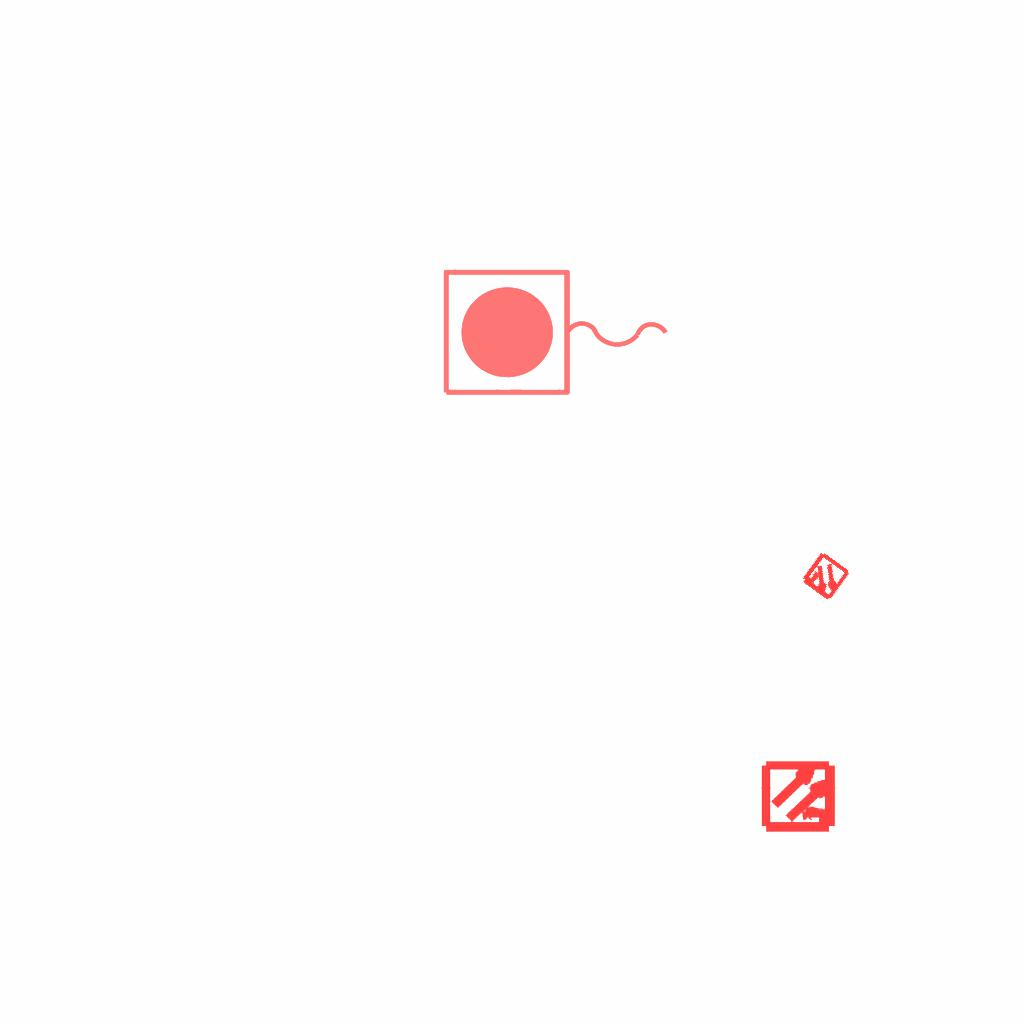OT_Multisensormelder_(Kombination_RMO_WMD): (744, 740, 857, 853), (785, 537, 865, 617)
Zugtaster: (435, 262, 679, 406)
